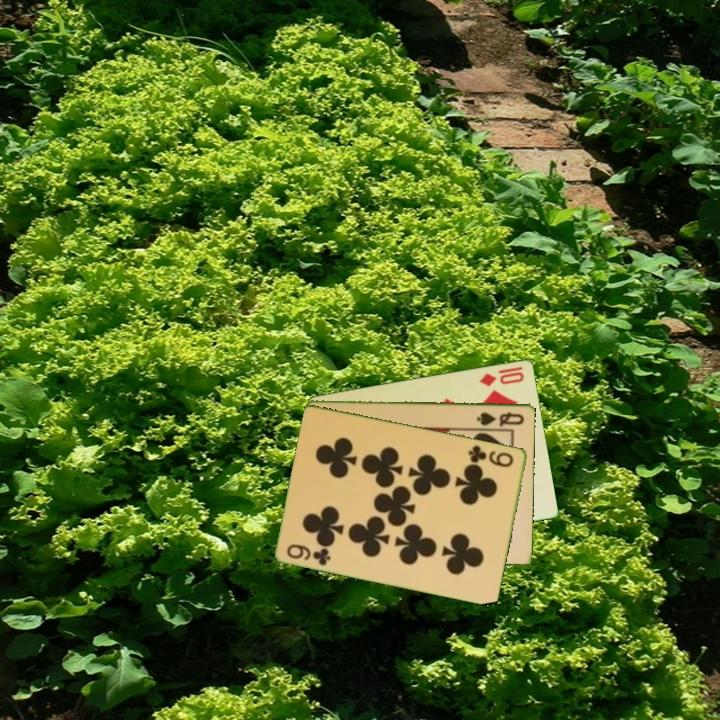10d: (476, 368, 527, 389)
9c: (465, 441, 517, 470), (283, 540, 334, 568)
Qs: (474, 408, 527, 428)
